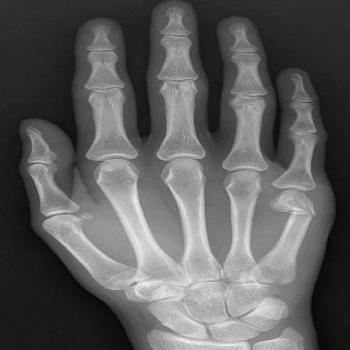Fracture: (268, 201, 311, 220)
